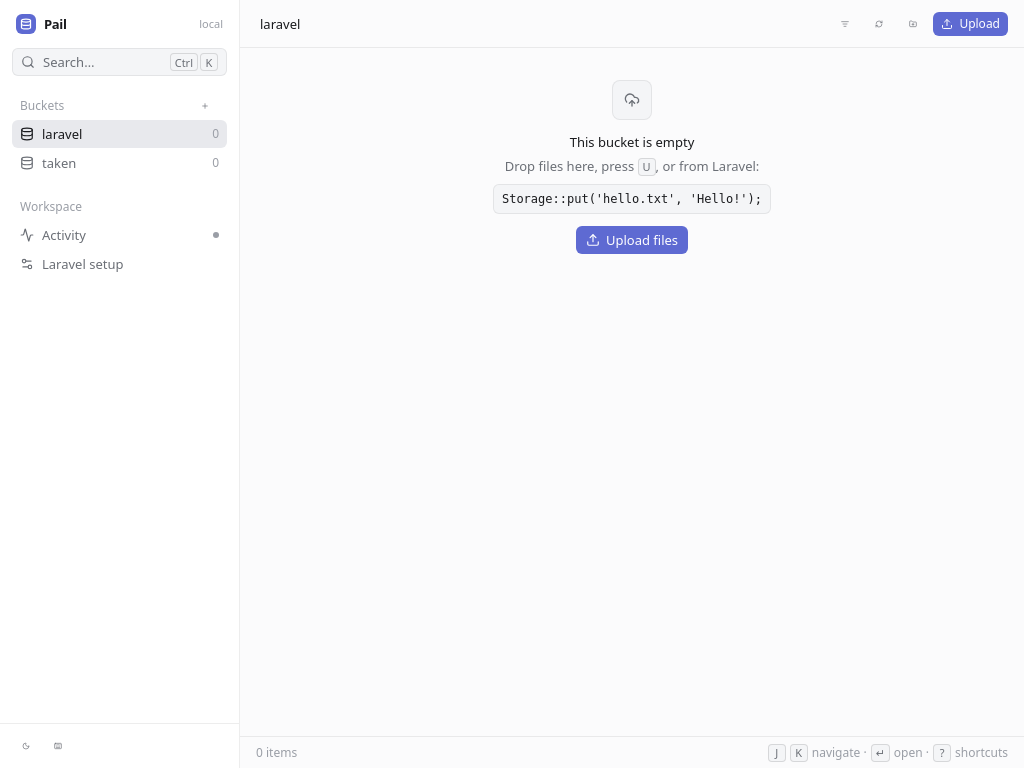
Test: Sidebar › shows server errors when creating a bucket
This screenshot has width=1024, height=768.
Click the button named "New bucket". click: (205, 106)
box: [191,92,219,120]
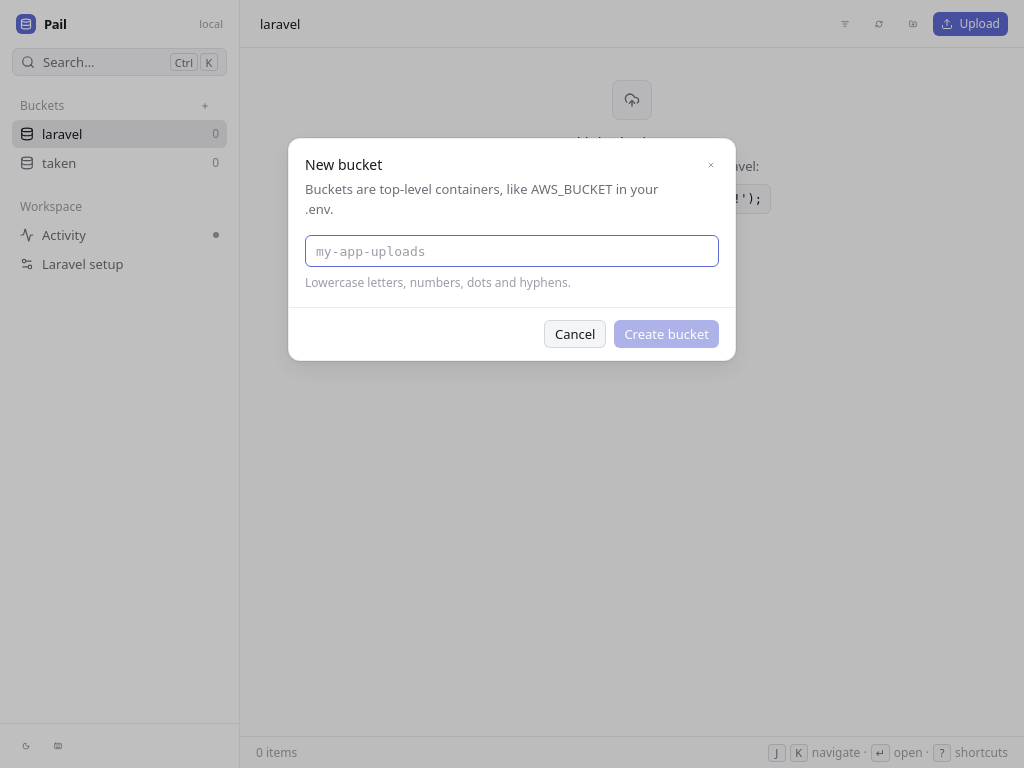
Type "taken" into the field named "Bucket name". click: (512, 251)
box: [305,235,719,267]
Then press Enter
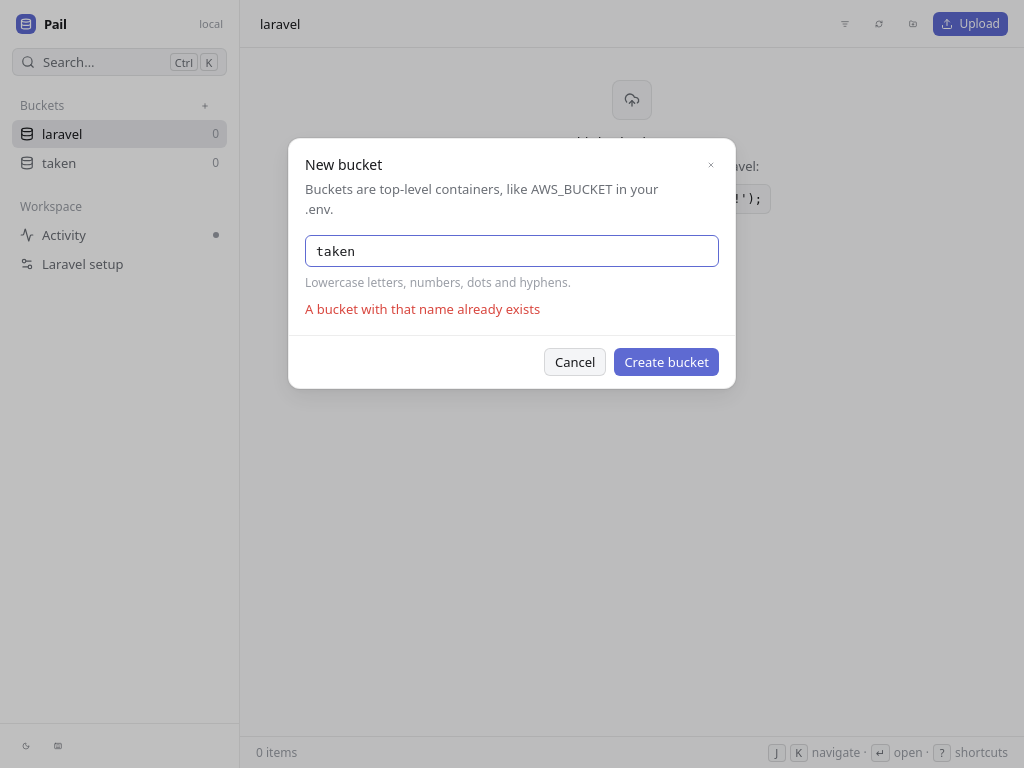
Now the text "A bucket with that name already exists" is shown, box [305,300,540,318]
